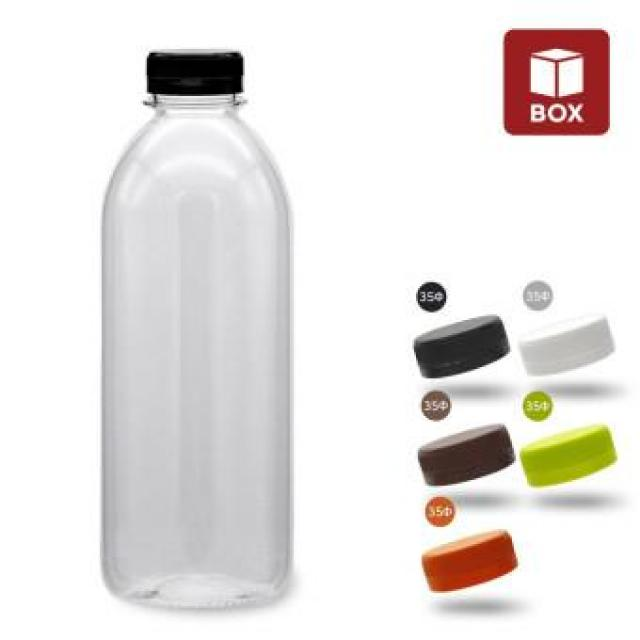bottle: (95, 39, 306, 626)
